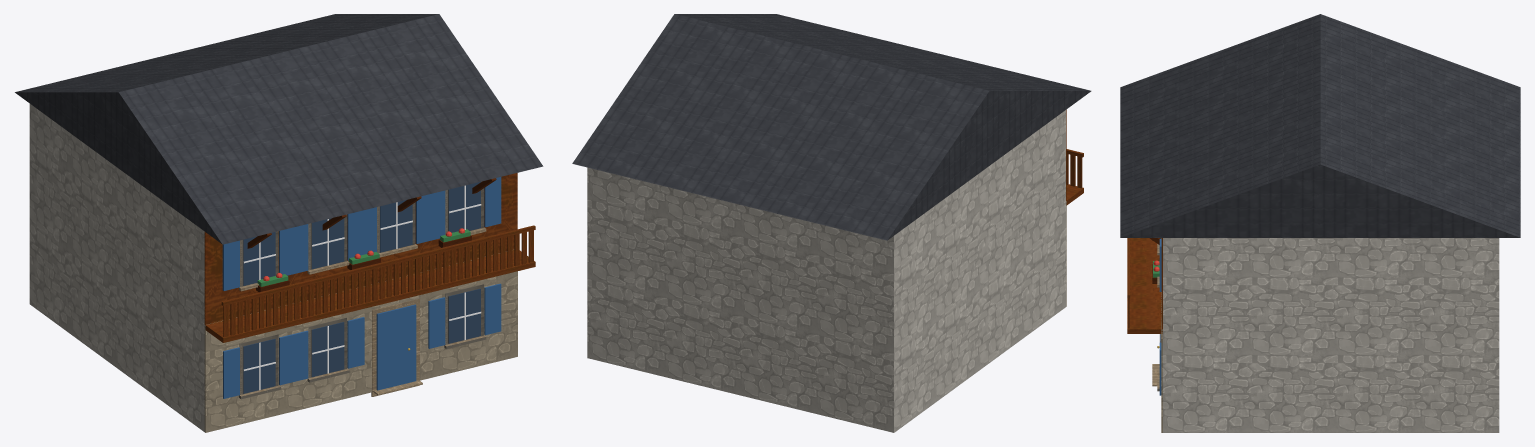
The model's file is chale_w10_0.gltf.
3 renders of one model, left to right at view 1: azimuth 30°, elevation 25°; view 2: azimuth 150°, elevation 25°; view 3: azimuth 270°, elevation 25°, orthographic. The views are drawn at different scales.
Parts seen in each view (by area): view 1: chale_w10_0; view 2: chale_w10_0; view 3: chale_w10_0.
Part boxes in pixels (x1,y1,x2,y2): chale_w10_0: (15, 14, 543, 432); chale_w10_0: (572, 14, 1091, 432); chale_w10_0: (1120, 14, 1520, 432).
Size of what is drawn, in the model's own units: 9.96 by 8.48 by 11.2.
Materials: 7 (4 with a texture image).
